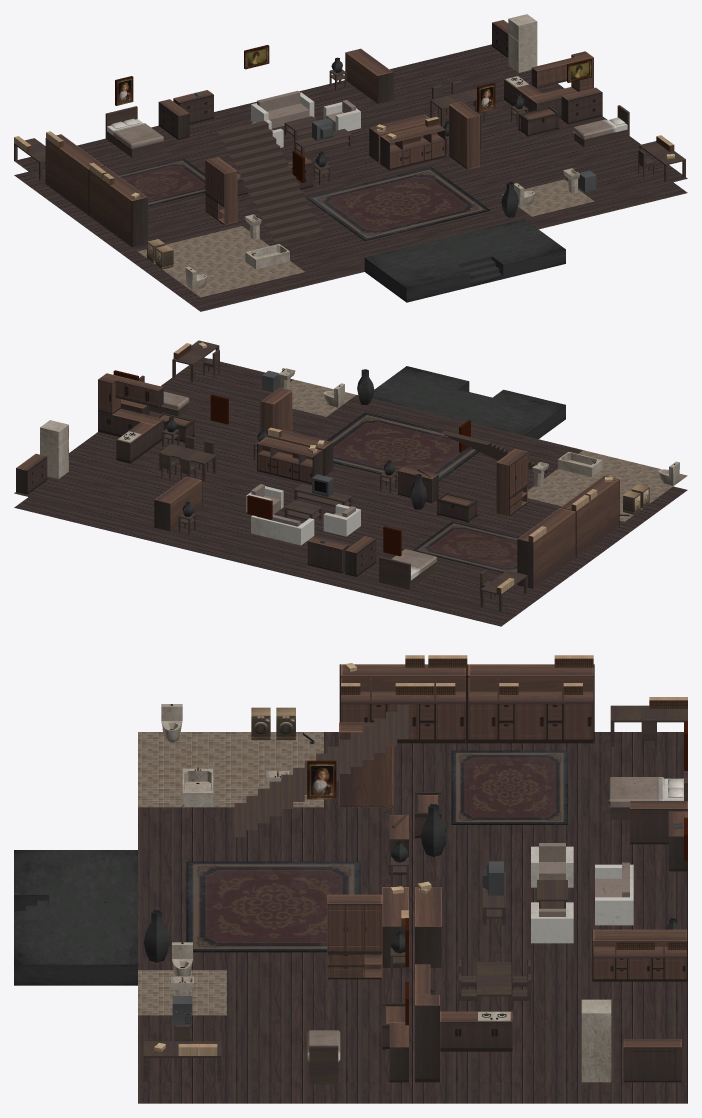
The model's file is house1.glb.
The picture shows the model from 3 angles, top to bottom: view 1: azimuth 30°, elevation 25°; view 2: azimuth 150°, elevation 25°; view 3: azimuth 270°, elevation 25°; orthographic projection. The views are drawn at different scales.
Bounding box in the file's own units: 84.25 × 14.17 × 68.5.
Materials: 12 (12 with a texture image).
